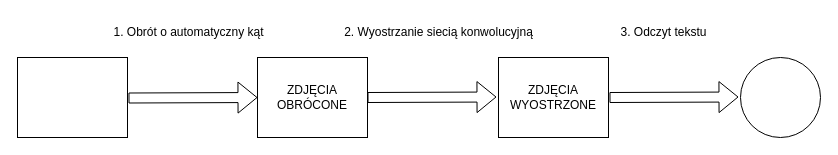
Some shapes in this 838 by 155 pixel diagram are drawn without their labels. Each missing label, with the centre of its shape:
ZAPIS: the point at 780,97
ZDJĘCIA ZE ŹRÓDŁA: the point at 72,97
